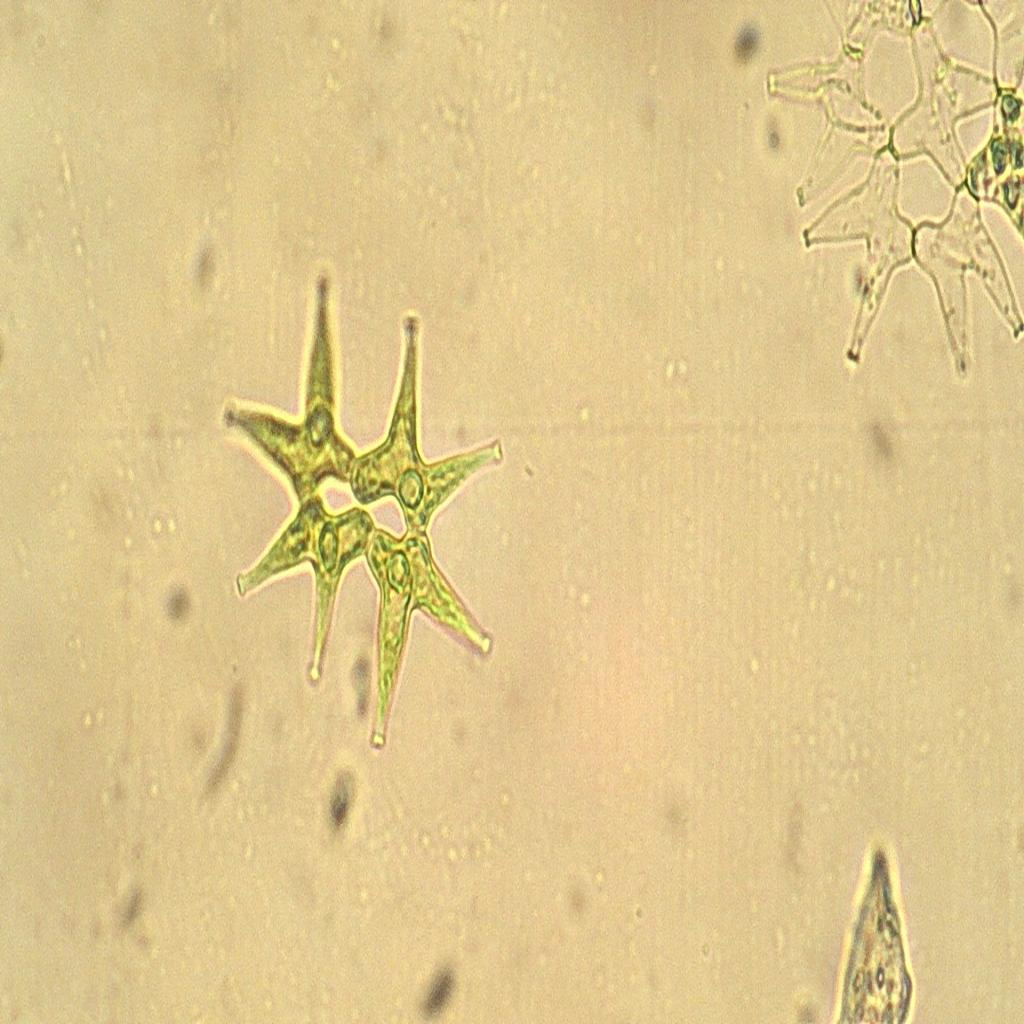Pediastrum_CF: (203, 257, 522, 771)
